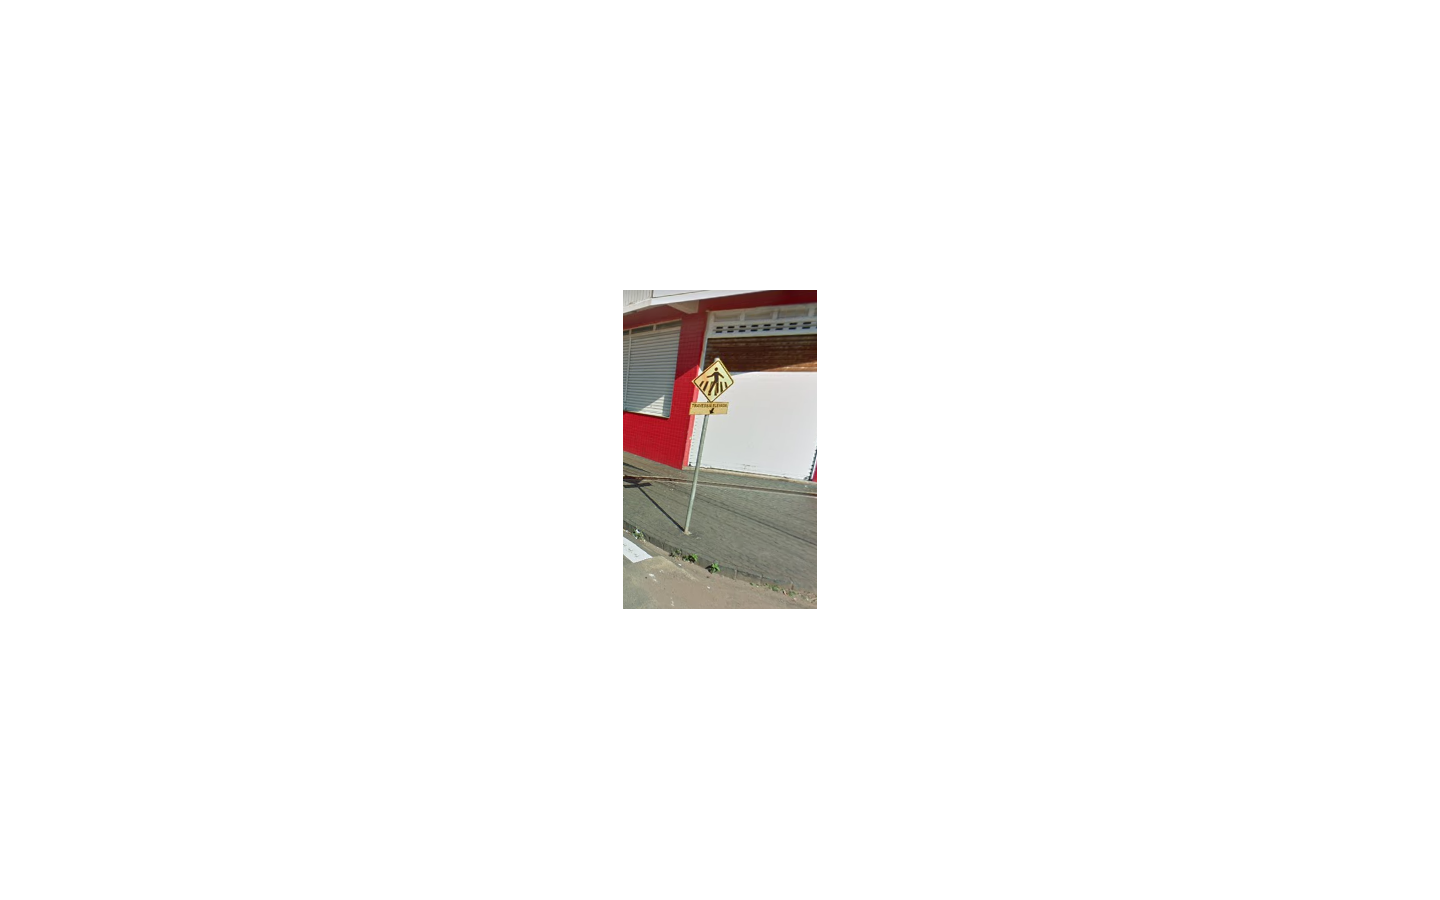telev: (688, 359, 734, 415)
